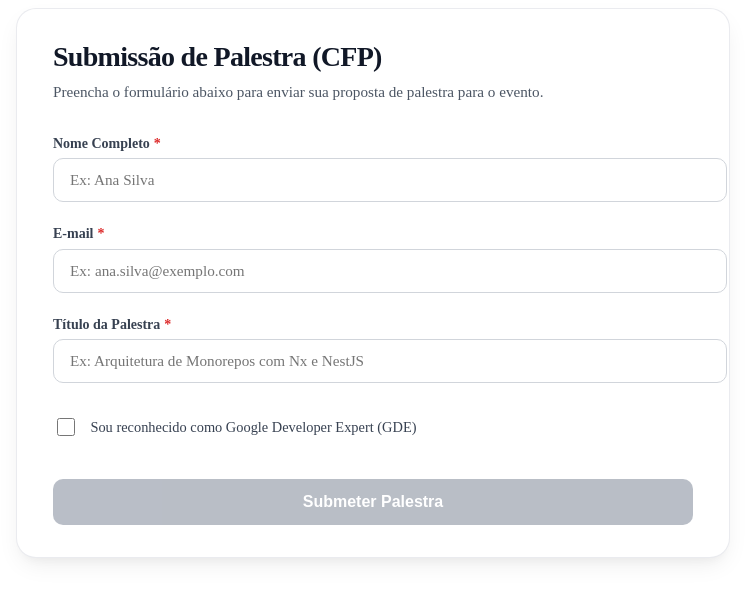
Test: CfpForm Component › Liberação do botão, submissão e acessibilidade WAI-ARIA (Task 4.2) › deve exibir mensagem de erro e aplicar aria-invalid ao perder foco com e-mail inválido
Step 1. Type "email-invalido" into the field labelled "E-mail *" → (390, 271), box top-left (53, 249), bottom-right (727, 293)
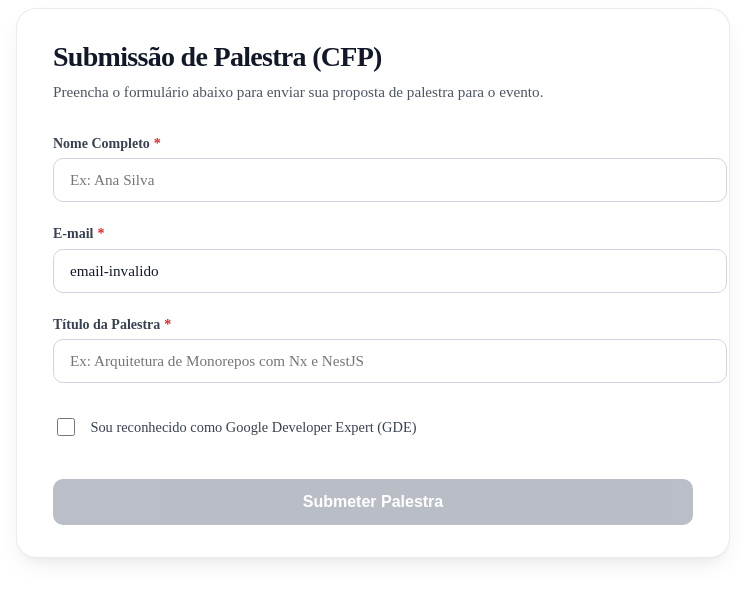
Step 2. Leave the field labelled "E-mail *", box top-left (53, 249), bottom-right (727, 293)
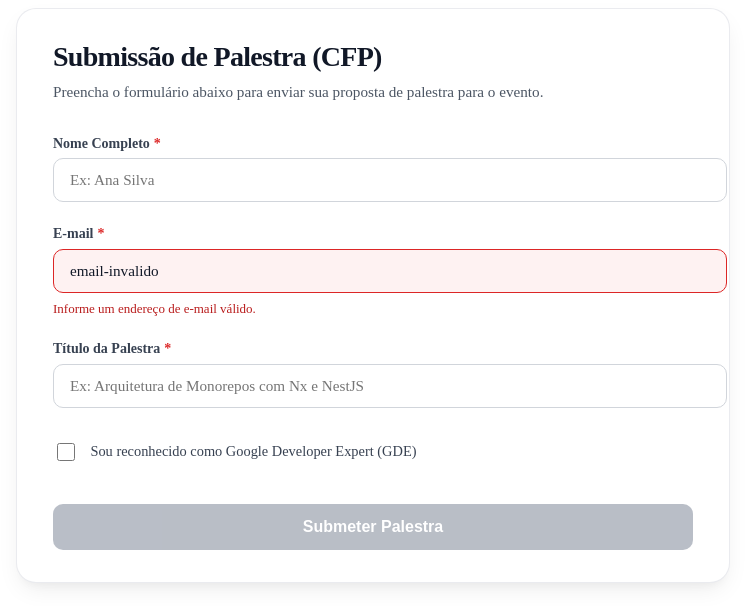
Expected: the button "Submeter Palestra" is disabled, top-left (53, 504), bottom-right (693, 550)
Expected: the message shows "Informe um endereço de e-mail válido", top-left (53, 301), bottom-right (256, 316)
